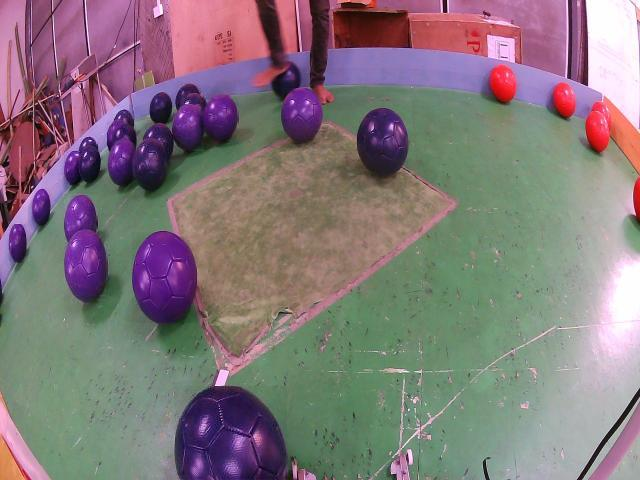jambhalya: (132, 232, 198, 323), (65, 230, 107, 301), (282, 89, 322, 143), (204, 95, 238, 141), (65, 195, 97, 241), (174, 105, 204, 151), (109, 140, 134, 185), (33, 188, 50, 225), (9, 225, 26, 261), (64, 152, 81, 184), (107, 122, 124, 149)
kaalyya: (175, 386, 287, 479), (356, 108, 409, 177), (132, 138, 168, 190), (144, 123, 174, 162), (271, 64, 300, 100), (79, 147, 101, 182), (150, 92, 172, 123), (176, 83, 200, 110), (181, 93, 207, 110), (115, 125, 136, 146), (78, 137, 97, 152), (115, 110, 133, 125)
